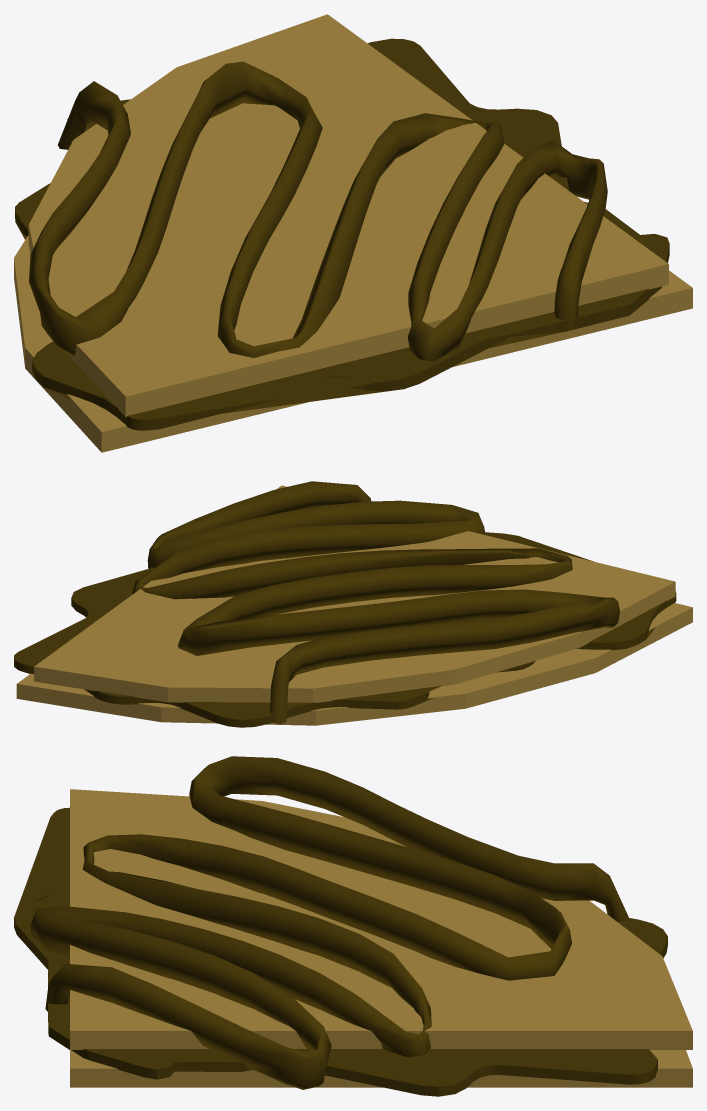
The model's file is crepe (1).fbx.
The picture shows the model from 3 angles, top to bottom: view 1: azimuth 30°, elevation 25°; view 2: azimuth 150°, elevation 25°; view 3: azimuth 270°, elevation 25°; orthographic projection. The views are drawn at different scales.
Parts seen in each view (by area): view 1: pCylinder10, nurbsToPoly2, nurbsToPoly1, pCylinder9; view 2: nurbsToPoly2, pCylinder10, pCylinder9, nurbsToPoly1; view 3: nurbsToPoly2, pCylinder10, nurbsToPoly1, pCylinder9.
Part boxes in pixels (<box>): pCylinder10: <box>28,14,668,416</box>; nurbsToPoly2: <box>29,61,607,361</box>; nurbsToPoly1: <box>15,38,669,430</box>; pCylinder9: <box>14,235,692,452</box>; nurbsToPoly2: <box>132,481,619,723</box>; pCylinder10: <box>34,485,675,702</box>; pCylinder9: <box>16,603,692,725</box>; nurbsToPoly1: <box>14,532,676,727</box>; nurbsToPoly2: <box>30,756,628,1089</box>; pCylinder10: <box>70,789,692,1049</box>; nurbsToPoly1: <box>14,807,667,1096</box>; pCylinder9: <box>70,1050,692,1087</box>.
Bounding box in the file's own units: 33.08 × 5 × 32.69.
